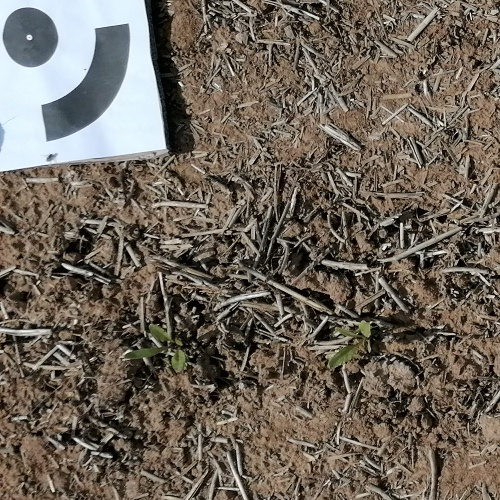beet: (122, 325, 186, 374), (327, 322, 372, 368)
